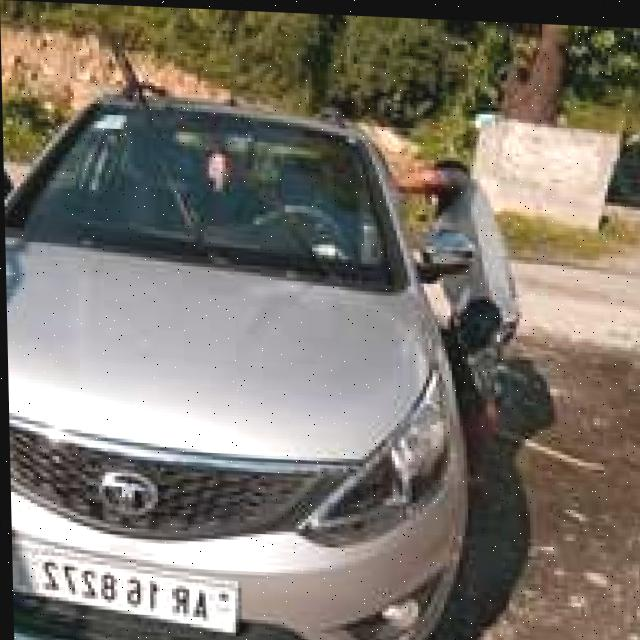plate: (9, 537, 237, 631)
